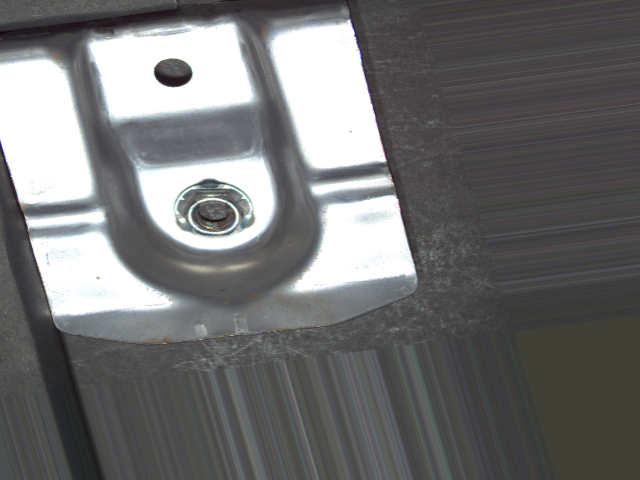good: (168, 175, 259, 243)
